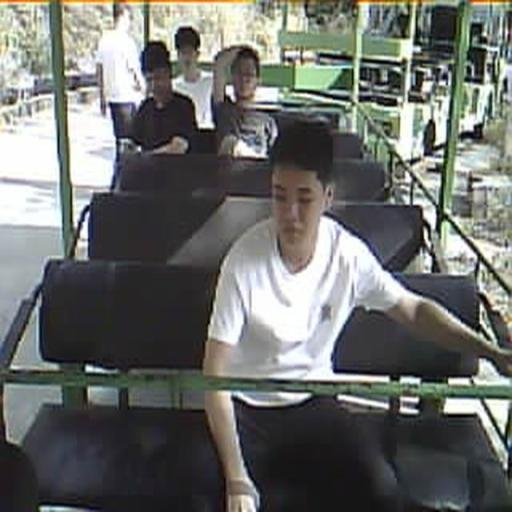persona: (202, 112, 511, 511), (126, 40, 199, 154), (211, 45, 280, 161), (170, 25, 219, 131)
